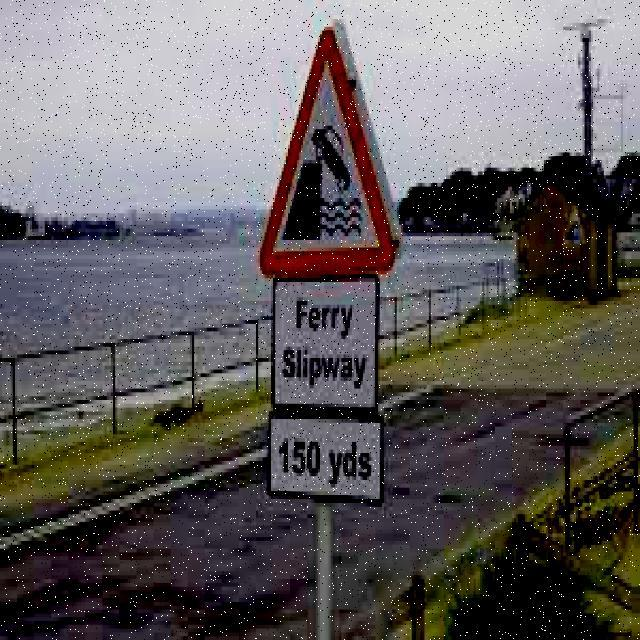Traffic sign: (254, 14, 404, 511)
